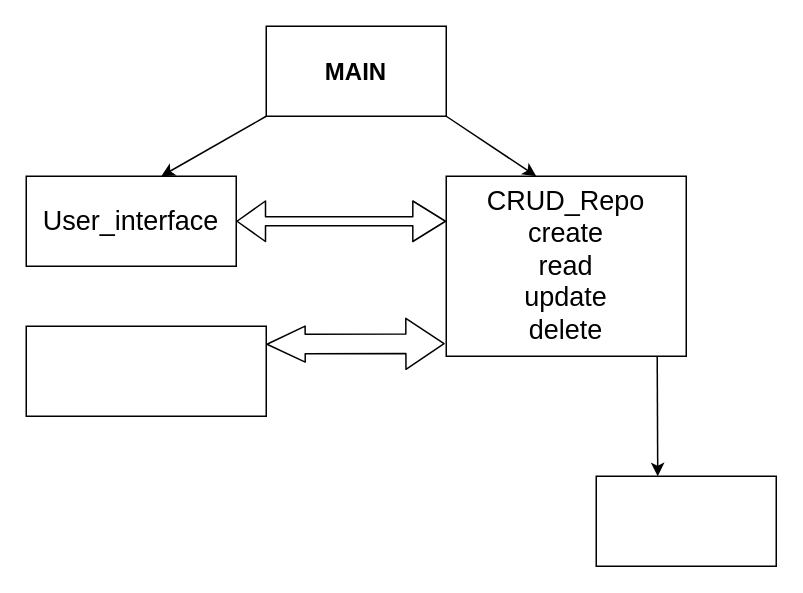
Some shapes in this 803 by 593 pixel diagram are drawn without their labels. The shapes that lost their labels are listed below. From the top down, each one's centre as x and y in pixels, then its label:
pixel 145 370: Import_export
pixel 685 520: Logger
